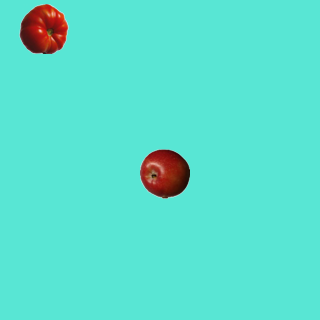Apple Braeburn: (139, 148, 189, 198)
Tomato 3: (18, 3, 68, 53)
